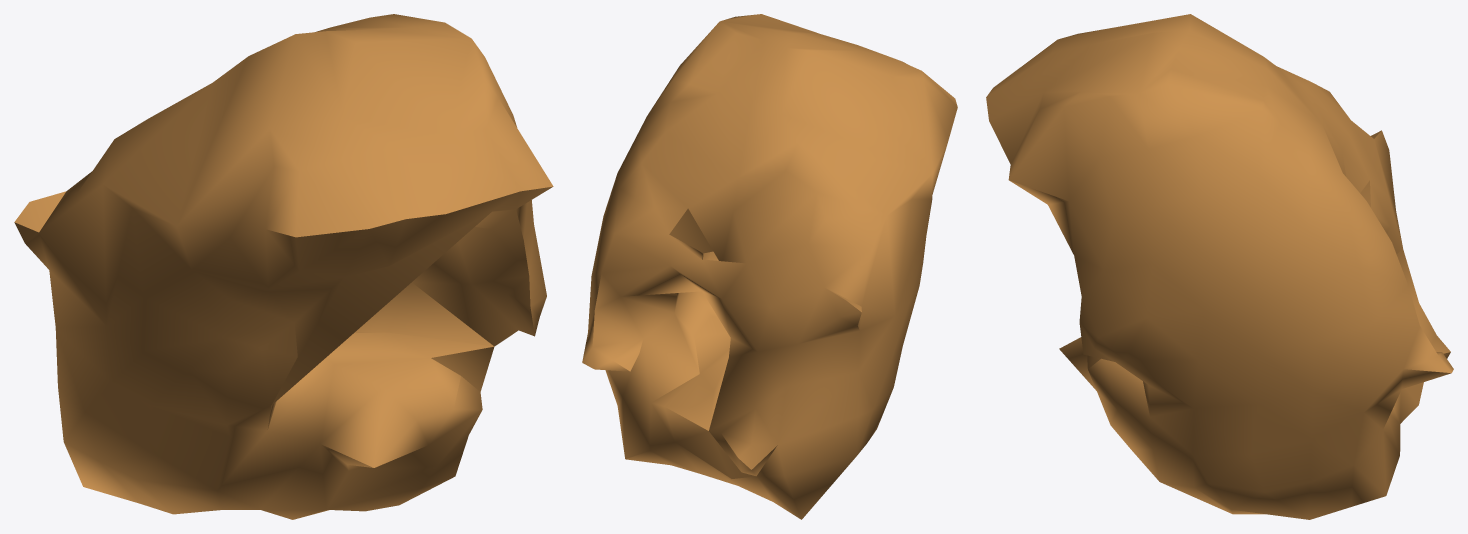
The model's file is spl-382.glb.
3 renders of one model, left to right at view 1: azimuth 30°, elevation 25°; view 2: azimuth 150°, elevation 25°; view 3: azimuth 270°, elevation 25°, orthographic. The views are drawn at different scales.
Parts seen in each view (by area): view 1: spl-382; view 2: spl-382; view 3: spl-382.
Boxes of the visible parts, left/top/right/bottom form: spl-382: left=14, top=14, right=553, bottom=519; spl-382: left=582, top=14, right=957, bottom=519; spl-382: left=986, top=14, right=1453, bottom=519.
Bounding box in the file's own units: 6.49 × 8.23 × 7.73.
